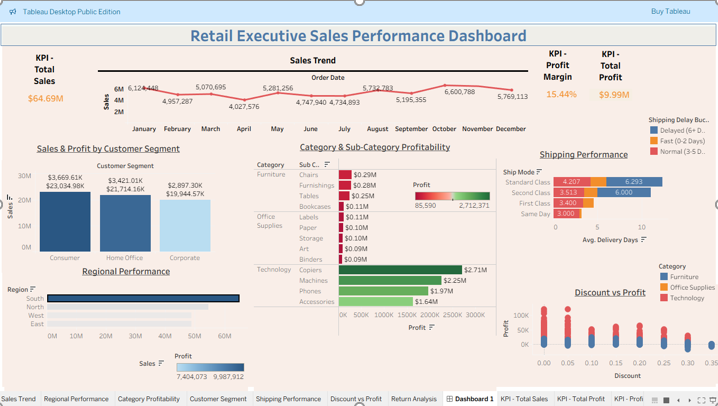

This screenshot's page, from the dashboard's own definition file:
{"tool":"tableau","page":{"name":"Dashboard 1","canvas":[1000,1000],"units":"permille","ordinal":0},"visuals":[{"type":"text","box":[1.7,0,995.7,68.5]},{"type":"worksheet","title":"KPI - Profit Margin","mark":"Automatic","box":[746.3,62.6,68.4,236.8]},{"type":"worksheet","title":"KPI - Total Profit","mark":"Automatic","box":[819.1,64.6,64.1,238.8]},{"type":"worksheet","title":"KPI - Total Sales","mark":"Automatic","box":[35.5,74.4,83.1,227]},{"type":"worksheet","title":"Sales Trend","mark":"Automatic","rows":["sales"],"cols":["order_date"],"box":[138.5,82.2,595.7,221.1]},{"type":"legend","title":"Shipping Performance","param":"[federated.0l605jb0hc173g13e91nx19wnk90].[none:Calculation_0601724564013061:nk]","box":[901.3,252.5,84.9,168.3]},{"type":"worksheet","title":"Customer Segment","mark":"Automatic","rows":["sales"],"cols":["customer_segment"],"box":[5.2,320.9,296.1,358.1]},{"type":"worksheet","title":"Shipping Performance","mark":"Automatic","rows":["ship_mode"],"cols":["delivery_days"],"box":[695.2,336.6,266.7,409]},{"type":"legend","title":"Category Profitability","param":"[federated.0l605jb0hc173g13e91nx19wnk90].[sum:profit:qk]","box":[574.9,428.6,110,103.7]},{"type":"worksheet","title":"Discount vs Profit","mark":"Circle","rows":["profit"],"cols":["discount"],"box":[691.8,710.4,312.6,270.1]}]}

Visuals, with their boxes on the dashboard's canvas, which has no fixed pixel size, in thousandths of its width and height (x1, y1, x2, y2). These are canvas units, not pixel positions in the 718x406 screenshot, which may show the page scaled, cropped or inside an application window:
text: select_region(2, 0, 997, 68)
"KPI - Profit Margin" worksheet: select_region(746, 63, 815, 299)
"KPI - Total Profit" worksheet: select_region(819, 65, 883, 303)
"KPI - Total Sales" worksheet: select_region(36, 74, 119, 301)
"Sales Trend" worksheet: select_region(138, 82, 734, 303)
"Shipping Performance" legend: select_region(901, 252, 986, 421)
"Customer Segment" worksheet: select_region(5, 321, 301, 679)
"Shipping Performance" worksheet: select_region(695, 337, 962, 746)
"Category Profitability" legend: select_region(575, 429, 685, 532)
"Discount vs Profit" worksheet (Circle marks): select_region(692, 710, 1004, 980)
